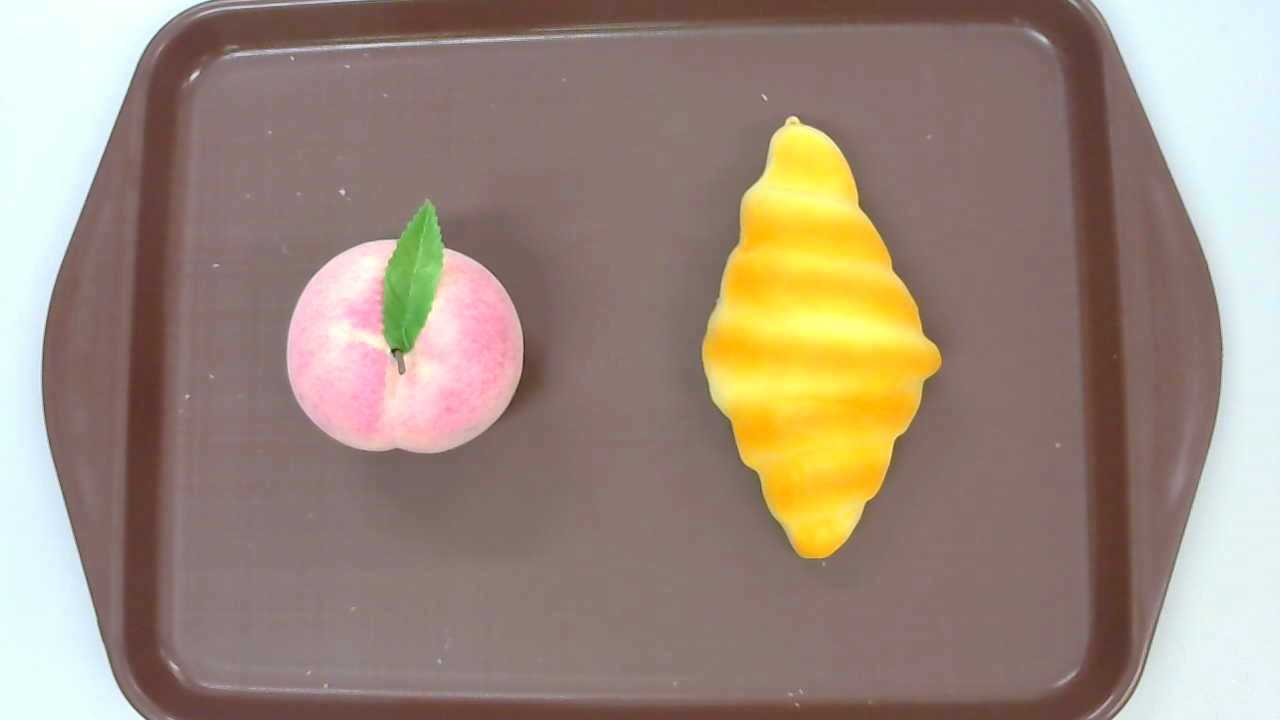croissant: (702, 116, 942, 558)
peach: (288, 198, 524, 455)
